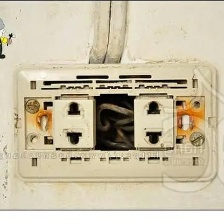three_eye_plug: (11, 61, 222, 185)
